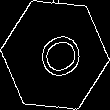O_SW: (25, 24, 85, 86)
